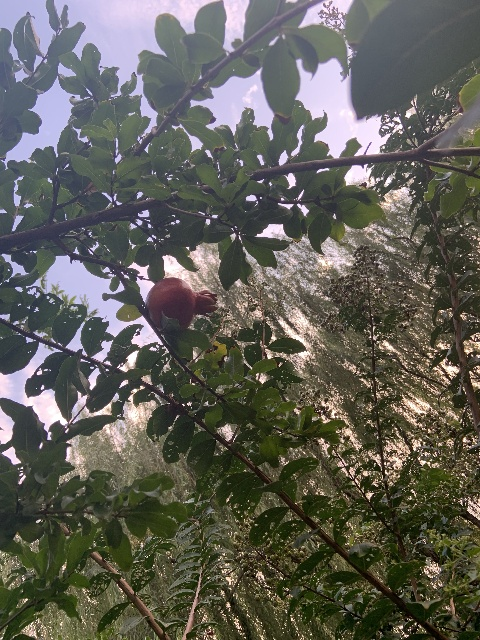ripe: (145, 276, 218, 330)
